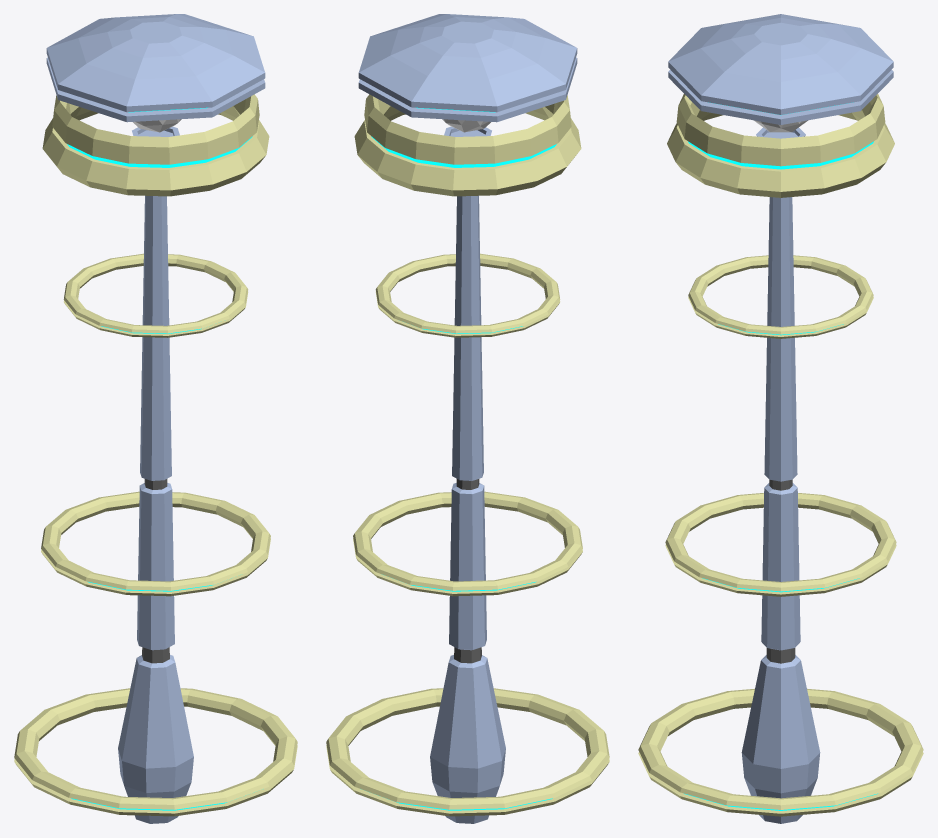
Rendered from Poste_Luz 1.fbx.
3 renders of one model, left to right at view 1: azimuth 30°, elevation 25°; view 2: azimuth 150°, elevation 25°; view 3: azimuth 270°, elevation 25°, orthographic.
Parts seen in each view (by area): view 1: Cylinder, Torus.002, Torus.008, Cylinder.001; view 2: Cylinder, Torus.002, Torus.008, Cylinder.001; view 3: Cylinder, Torus.002, Torus.008, Cylinder.001.
Part boxes in pixels (x1,y1,x2,y2): Cylinder: (46,14,265,823); Torus.002: (14,94,297,816); Torus.008: (67,107,254,810); Cylinder.001: (142,479,169,663); Cylinder: (358,14,577,823); Torus.002: (326,94,609,816); Torus.008: (369,107,556,810); Cylinder.001: (454,479,481,663); Cylinder: (668,14,893,823); Torus.002: (638,94,923,816); Torus.008: (684,102,877,810); Cylinder.001: (766,479,795,663).
Size of the model in its own units: 368 by 1110 by 368.
